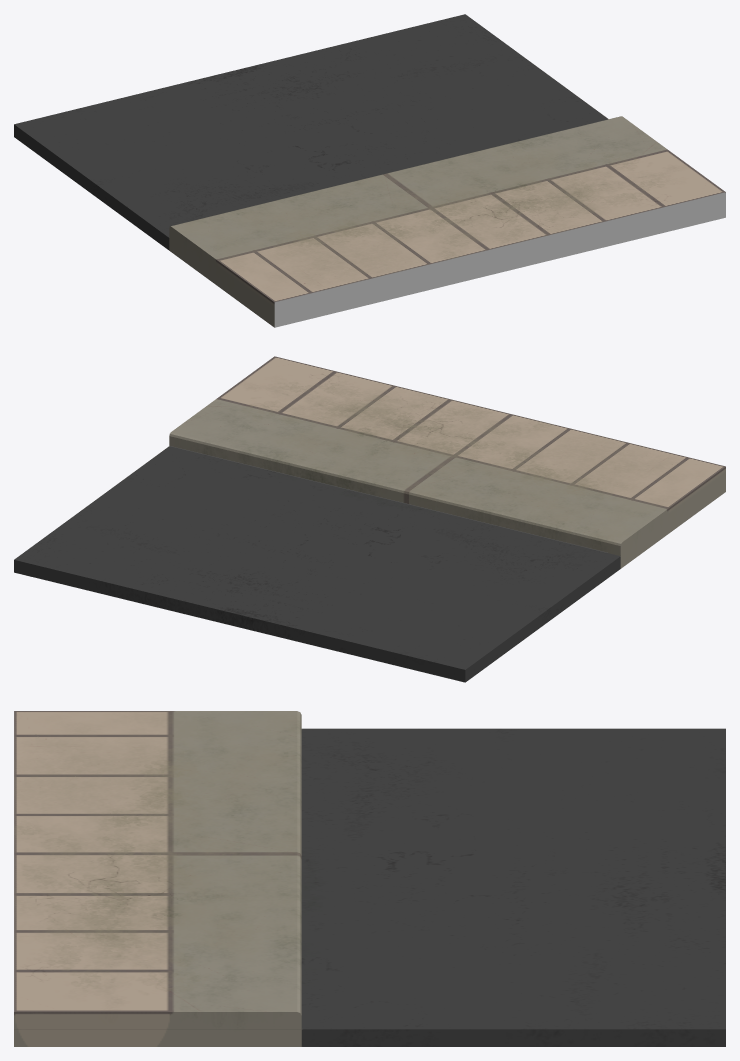
Rendered from Pavement_Default.fbx.
The picture shows the model from 3 angles, top to bottom: view 1: azimuth 30°, elevation 25°; view 2: azimuth 150°, elevation 25°; view 3: azimuth 270°, elevation 25°; orthographic projection. The views are drawn at different scales.
Parts seen in each view (by area): view 1: Cube; view 2: Cube; view 3: Cube.
Boxes of the visible parts, x1,y1,x2,y2 form: Cube: [14, 14, 725, 327]; Cube: [14, 356, 725, 682]; Cube: [14, 711, 725, 1046].
Size of the model in its own units: 100 by 5.4 by 100.
1 material, 1 textured.
